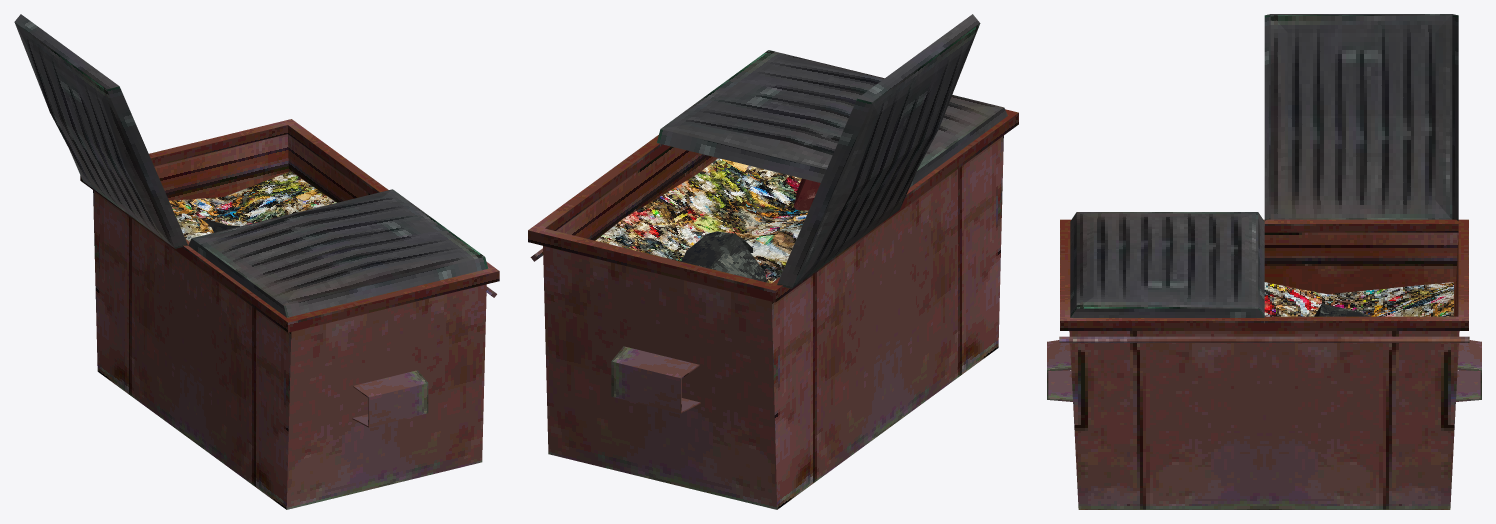
Rendered from dumpster_full_lid_open_red.glb.
3 views of the same model, side by side, from view 1: azimuth 30°, elevation 25°; view 2: azimuth 150°, elevation 25°; view 3: azimuth 270°, elevation 25° (orthographic). The views are drawn at different scales.
Parts seen in each view (by area): view 1: dumpster_full_lid_open_red; view 2: dumpster_full_lid_open_red; view 3: dumpster_full_lid_open_red.
Boxes of the visible parts, bbox=[...] form: dumpster_full_lid_open_red: bbox=[14, 14, 499, 509]; dumpster_full_lid_open_red: bbox=[528, 14, 1018, 509]; dumpster_full_lid_open_red: bbox=[1047, 14, 1481, 509].
Size of the model in its own units: 2.74 by 3.41 by 3.67.
Materials: 3 (3 with a texture image).
